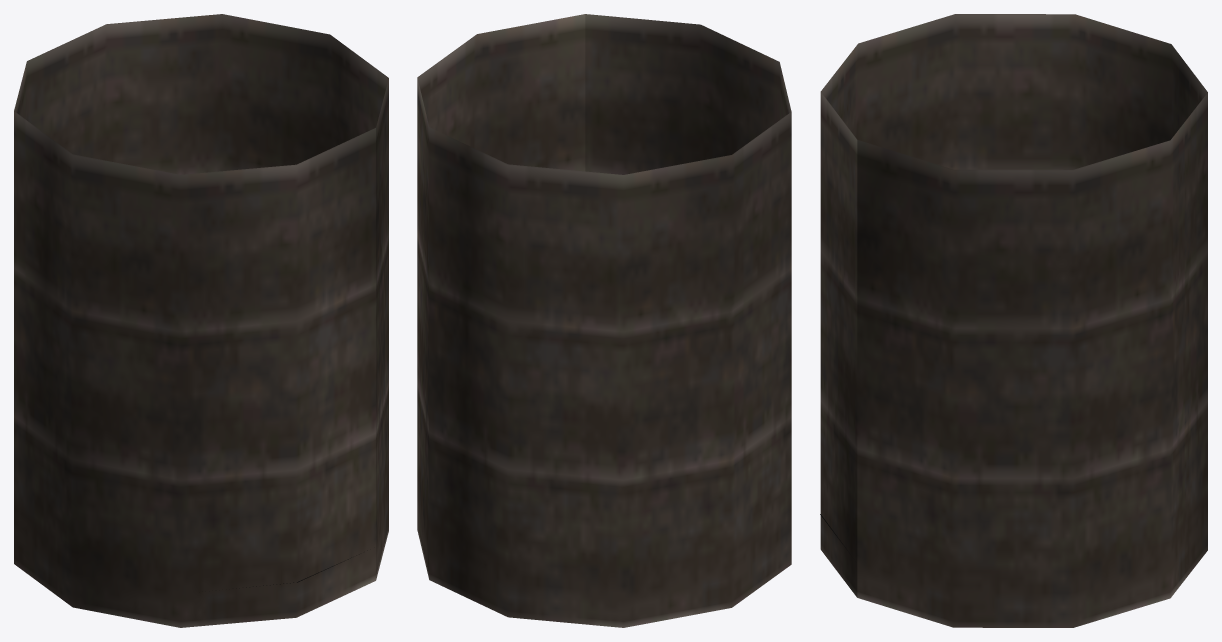
Rendered from FireBrl2.glb.
3 renders of one model, left to right at view 1: azimuth 30°, elevation 25°; view 2: azimuth 150°, elevation 25°; view 3: azimuth 270°, elevation 25°, orthographic.
Visible parts, largest first — view 1: _FireBrl2; view 2: _FireBrl2; view 3: _FireBrl2.
Part boxes in pixels (x1=…): _FireBrl2: x1=14, y1=14, x2=388, y2=627; _FireBrl2: x1=417, y1=14, x2=791, y2=627; _FireBrl2: x1=820, y1=14, x2=1207, y2=627.
Bounding box in the file's own units: 0.962 × 1.32 × 1.01.
2 materials, 2 textured.
